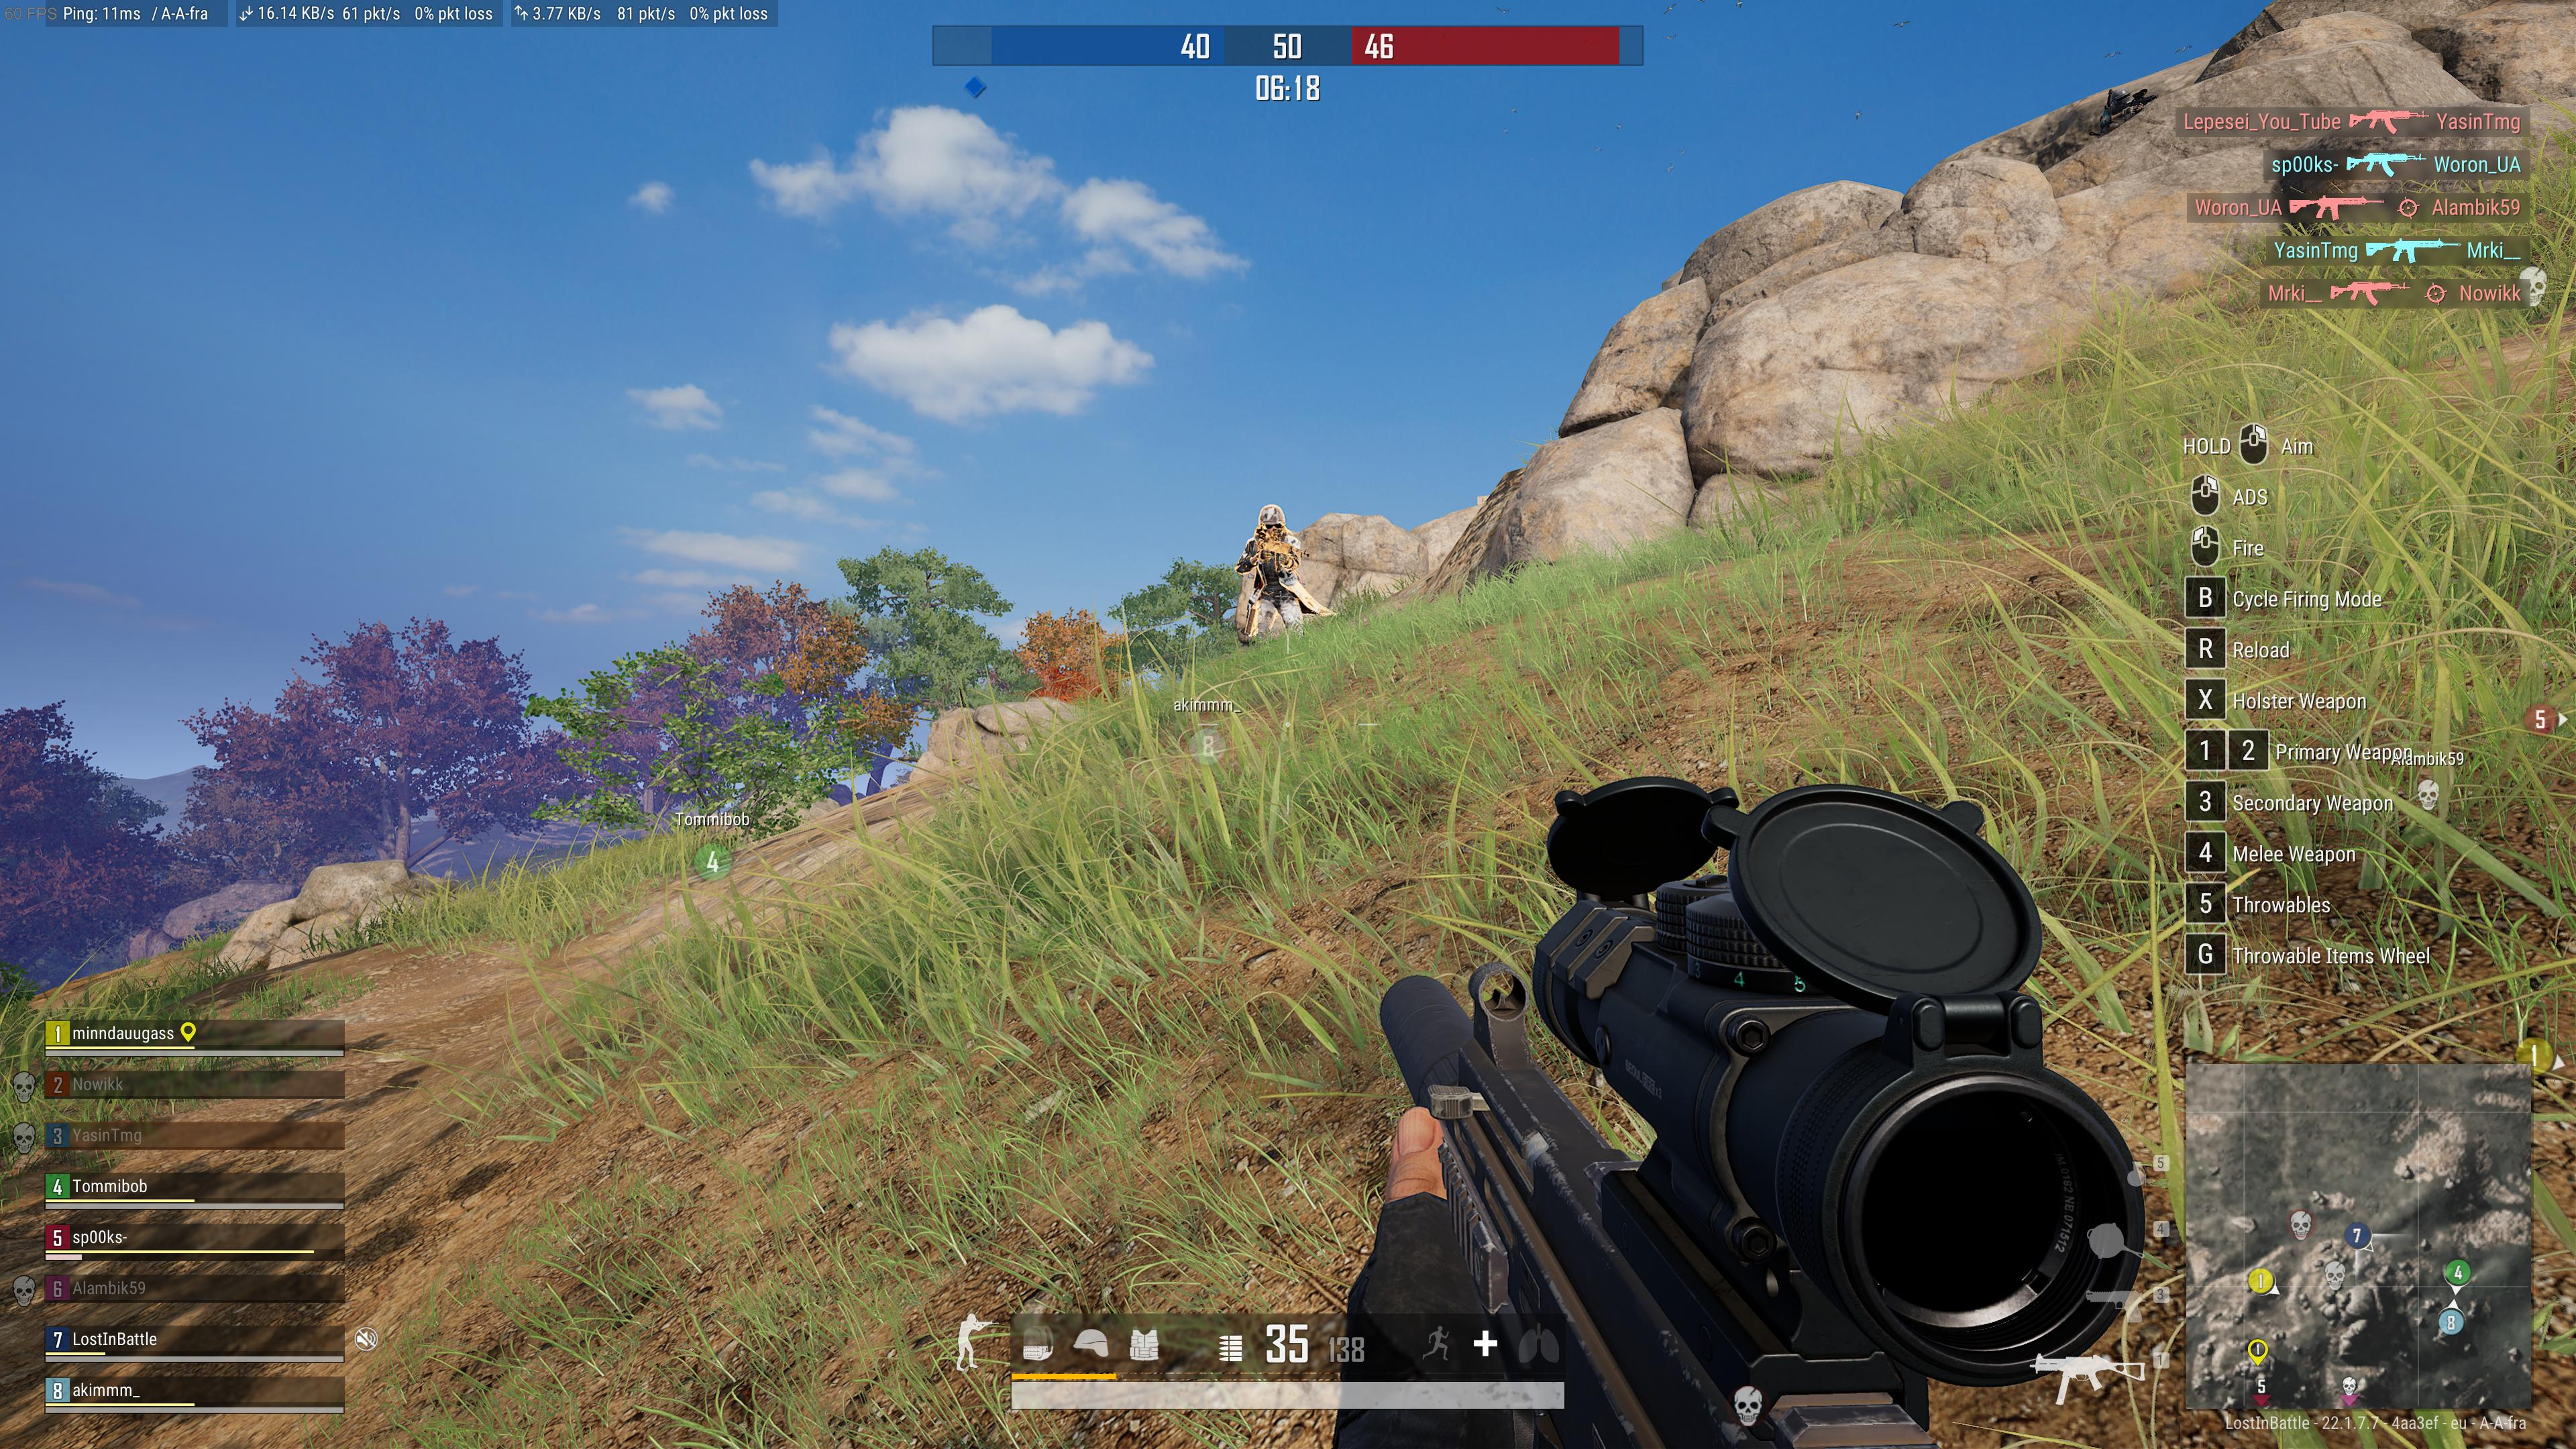enemy: (1233, 502, 1316, 646)
enemy_head: (1256, 502, 1286, 541)
